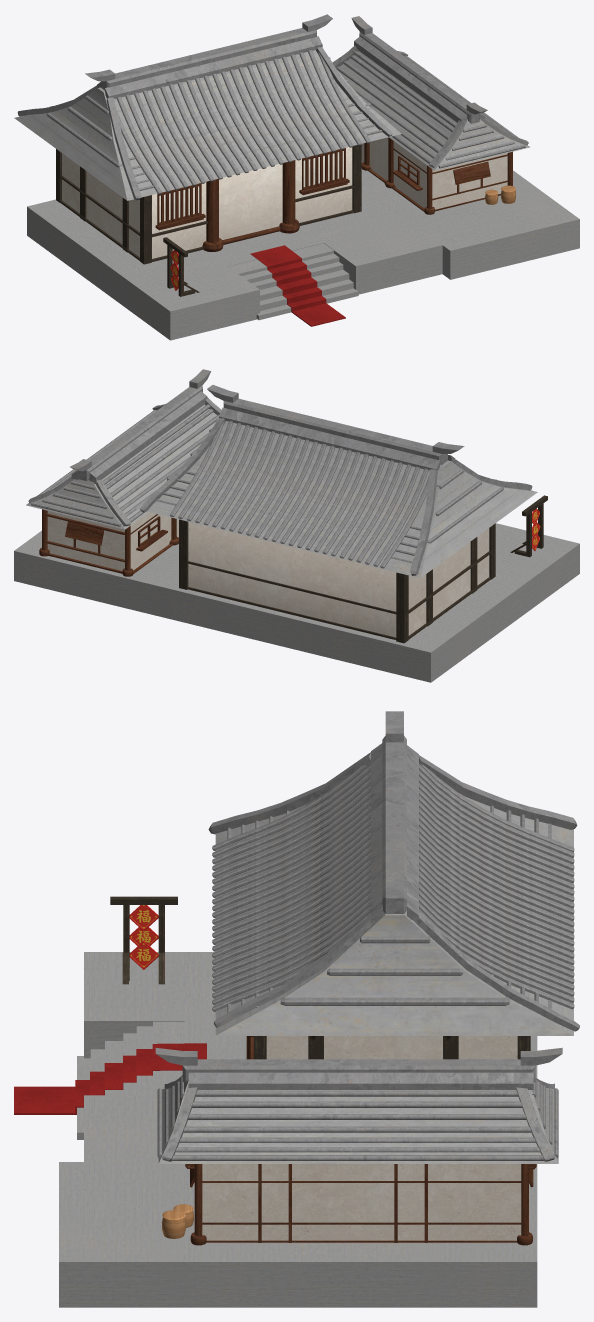
File: kezhan.fbx
3 views of the same model, one above another, from view 1: azimuth 30°, elevation 25°; view 2: azimuth 150°, elevation 25°; view 3: azimuth 270°, elevation 25° (orthographic). The views are drawn at different scales.
Parts seen in each view (by area): view 1: polySurface526, polySurface715, polySurface716, polySurface713, polySurface714, polySurface525, polySurface677, polySurface712, polySurface675, polySurface705, polySurface704, polySurface590 (+40 smaller); view 2: polySurface526, polySurface715, polySurface716, polySurface713, polySurface714, polySurface677, polySurface676, polySurface705, polySurface704, polySurface672, polySurface673, polySurface536 (+38 smaller); view 3: polySurface526, polySurface715, polySurface714, polySurface713, polySurface706, polySurface705, polySurface716, polySurface677, polySurface712, polySurface525, polySurface692, polySurface690 (+68 smaller).
Boxes of the visible parts, x1=… form: polySurface526: x1=27, y1=168, x2=579, y2=340; polySurface715: x1=14, y1=50, x2=401, y2=200; polySurface716: x1=62, y1=147, x2=352, y2=258; polySurface713: x1=338, y1=50, x2=530, y2=170; polySurface714: x1=361, y1=137, x2=507, y2=209; polySurface525: x1=229, y1=243, x2=358, y2=320; polySurface677: x1=85, y1=14, x2=332, y2=90; polySurface712: x1=250, y1=245, x2=345, y2=326; polySurface675: x1=105, y1=36, x2=322, y2=98; polySurface705: x1=351, y1=16, x2=487, y2=123; polySurface704: x1=354, y1=36, x2=467, y2=122; polySurface590: x1=157, y1=183, x2=201, y2=225; polySurface526: x1=14, y1=523, x2=579, y2=682; polySurface715: x1=135, y1=417, x2=537, y2=578; polySurface716: x1=188, y1=522, x2=489, y2=637; polySurface713: x1=26, y1=404, x2=216, y2=529; polySurface714: x1=47, y1=511, x2=178, y2=570; polySurface677: x1=207, y1=385, x2=464, y2=464; polySurface676: x1=219, y1=407, x2=439, y2=471; polySurface705: x1=70, y1=369, x2=211, y2=480; polySurface704: x1=89, y1=391, x2=207, y2=483; polySurface672: x1=410, y1=469, x2=437, y2=575; polySurface673: x1=140, y1=418, x2=225, y2=512; polySurface536: x1=396, y1=572, x2=408, y2=643; polySurface526: x1=59, y1=952, x2=537, y2=1307; polySurface715: x1=215, y1=793, x2=573, y2=1035; polySurface714: x1=202, y1=1164, x2=521, y2=1243; polySurface713: x1=158, y1=1080, x2=558, y2=1163; polySurface706: x1=188, y1=1072, x2=533, y2=1089; polySurface705: x1=155, y1=1047, x2=562, y2=1082; polySurface716: x1=266, y1=1036, x2=517, y2=1059; polySurface677: x1=382, y1=711, x2=406, y2=913; polySurface712: x1=14, y1=1043, x2=206, y2=1114; polySurface525: x1=77, y1=1021, x2=184, y2=1139; polySurface692: x1=183, y1=1126, x2=531, y2=1132; polySurface690: x1=192, y1=1101, x2=522, y2=1107.
Bounding box in the file's own units: 11.66 × 5.23 × 8.98.
